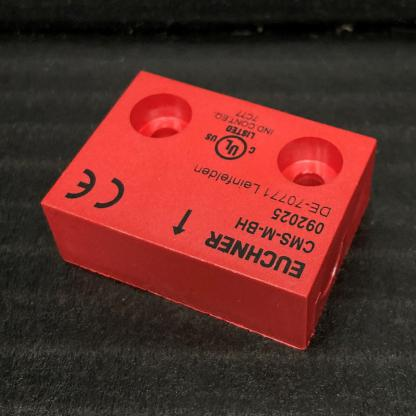SP0000001: (0, 0, 416, 408)
